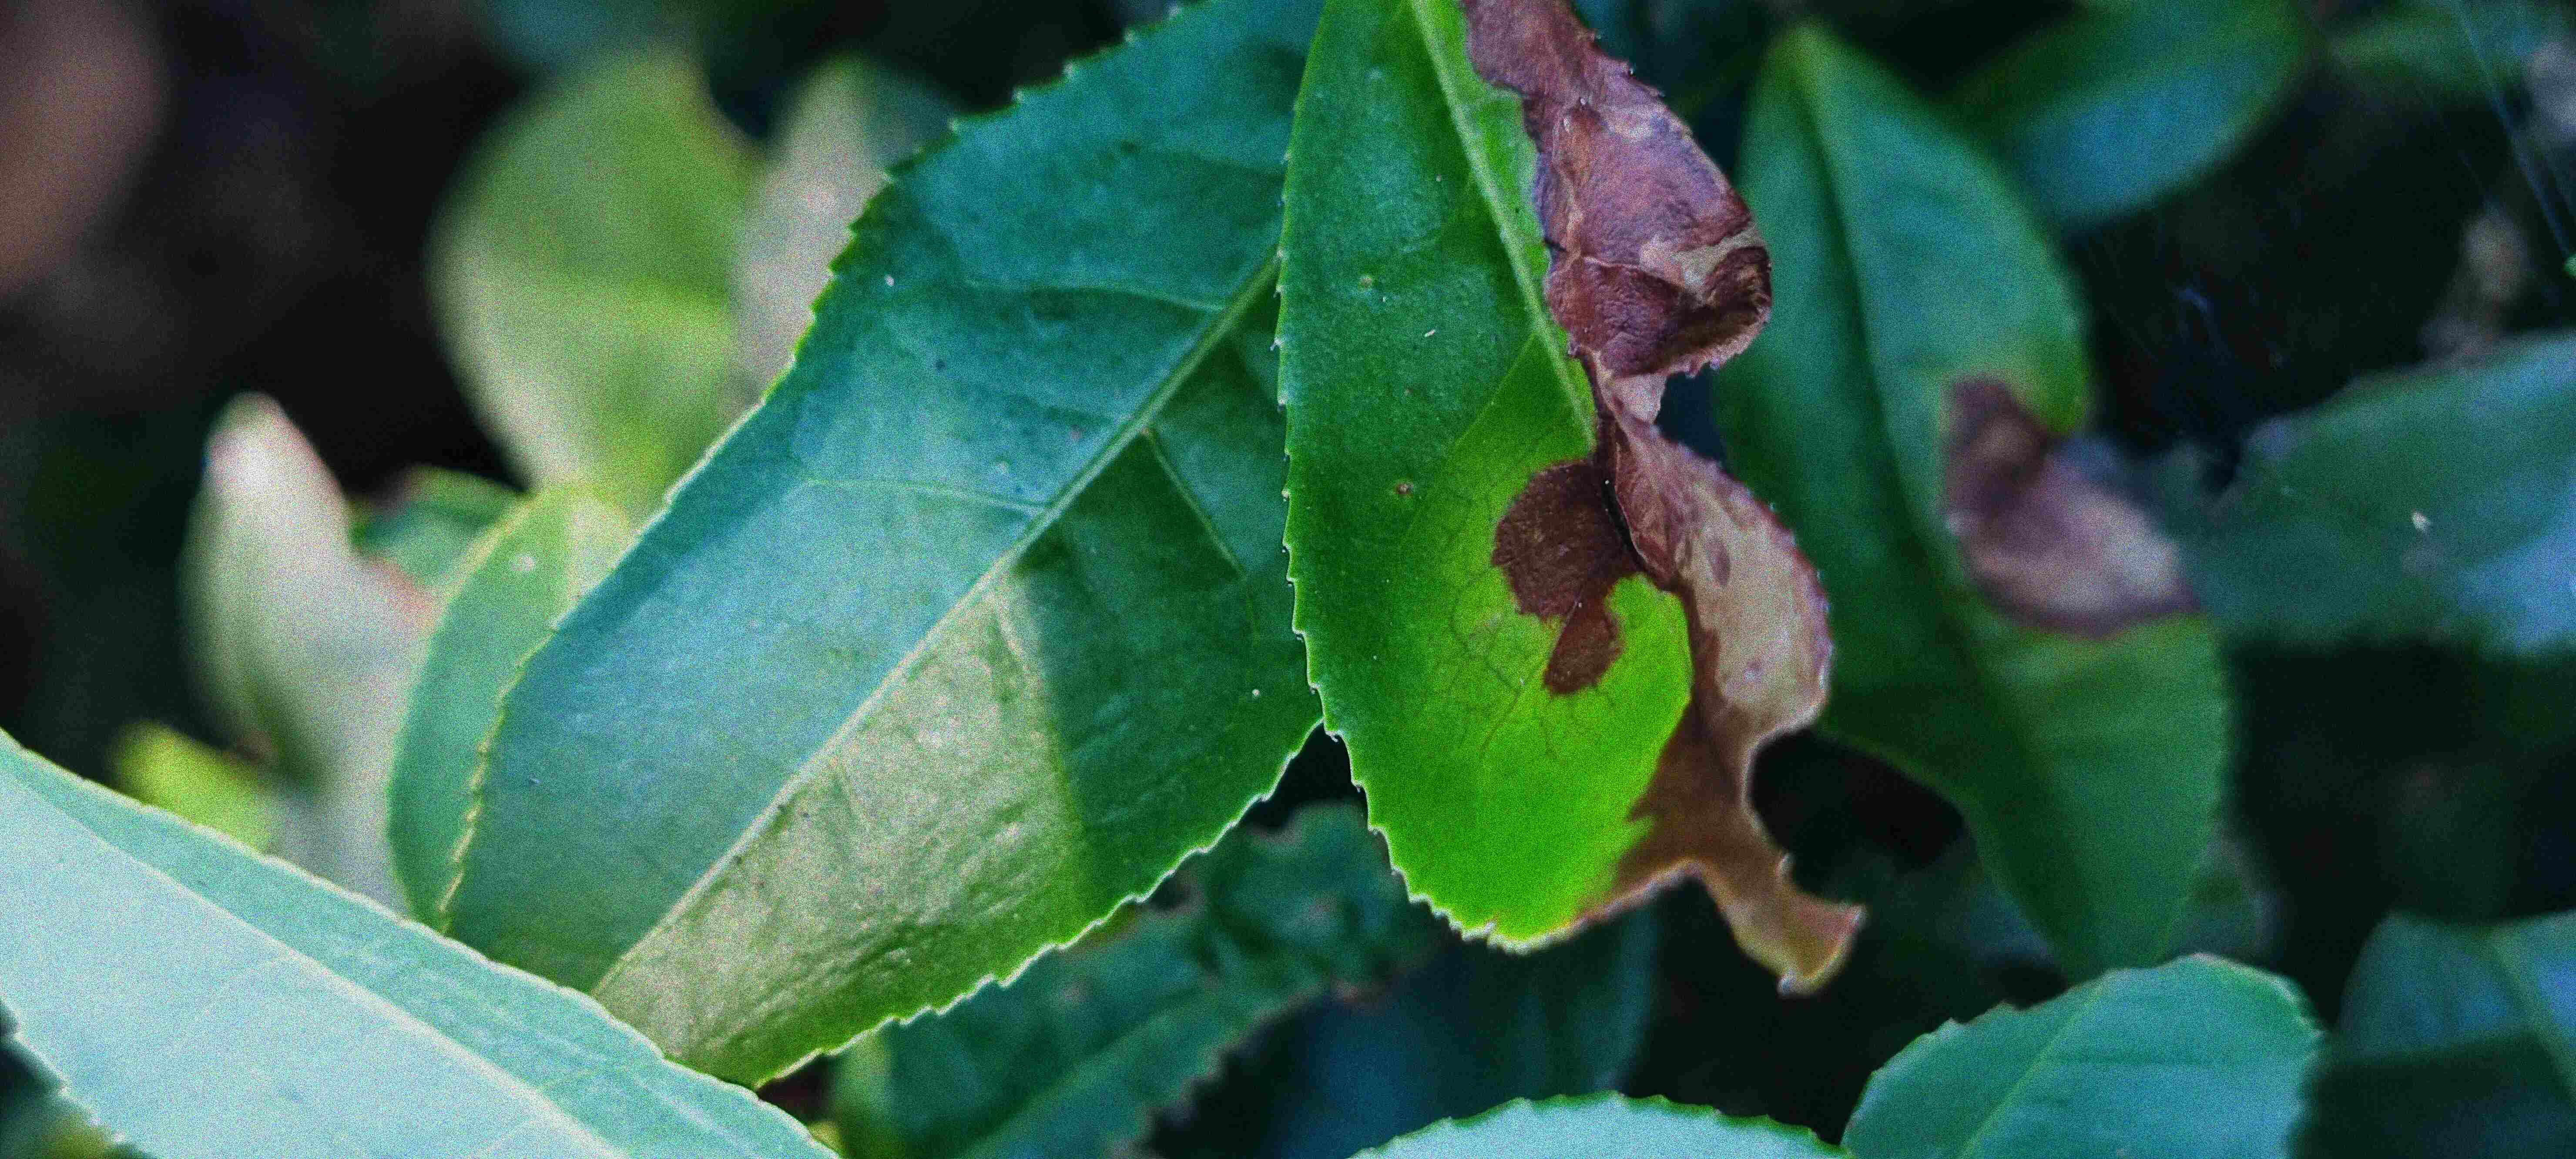healthy: (444, 10, 1331, 1087), (3, 714, 851, 1156)
tanju_high: (1270, 5, 1868, 995), (1713, 18, 2236, 969)
